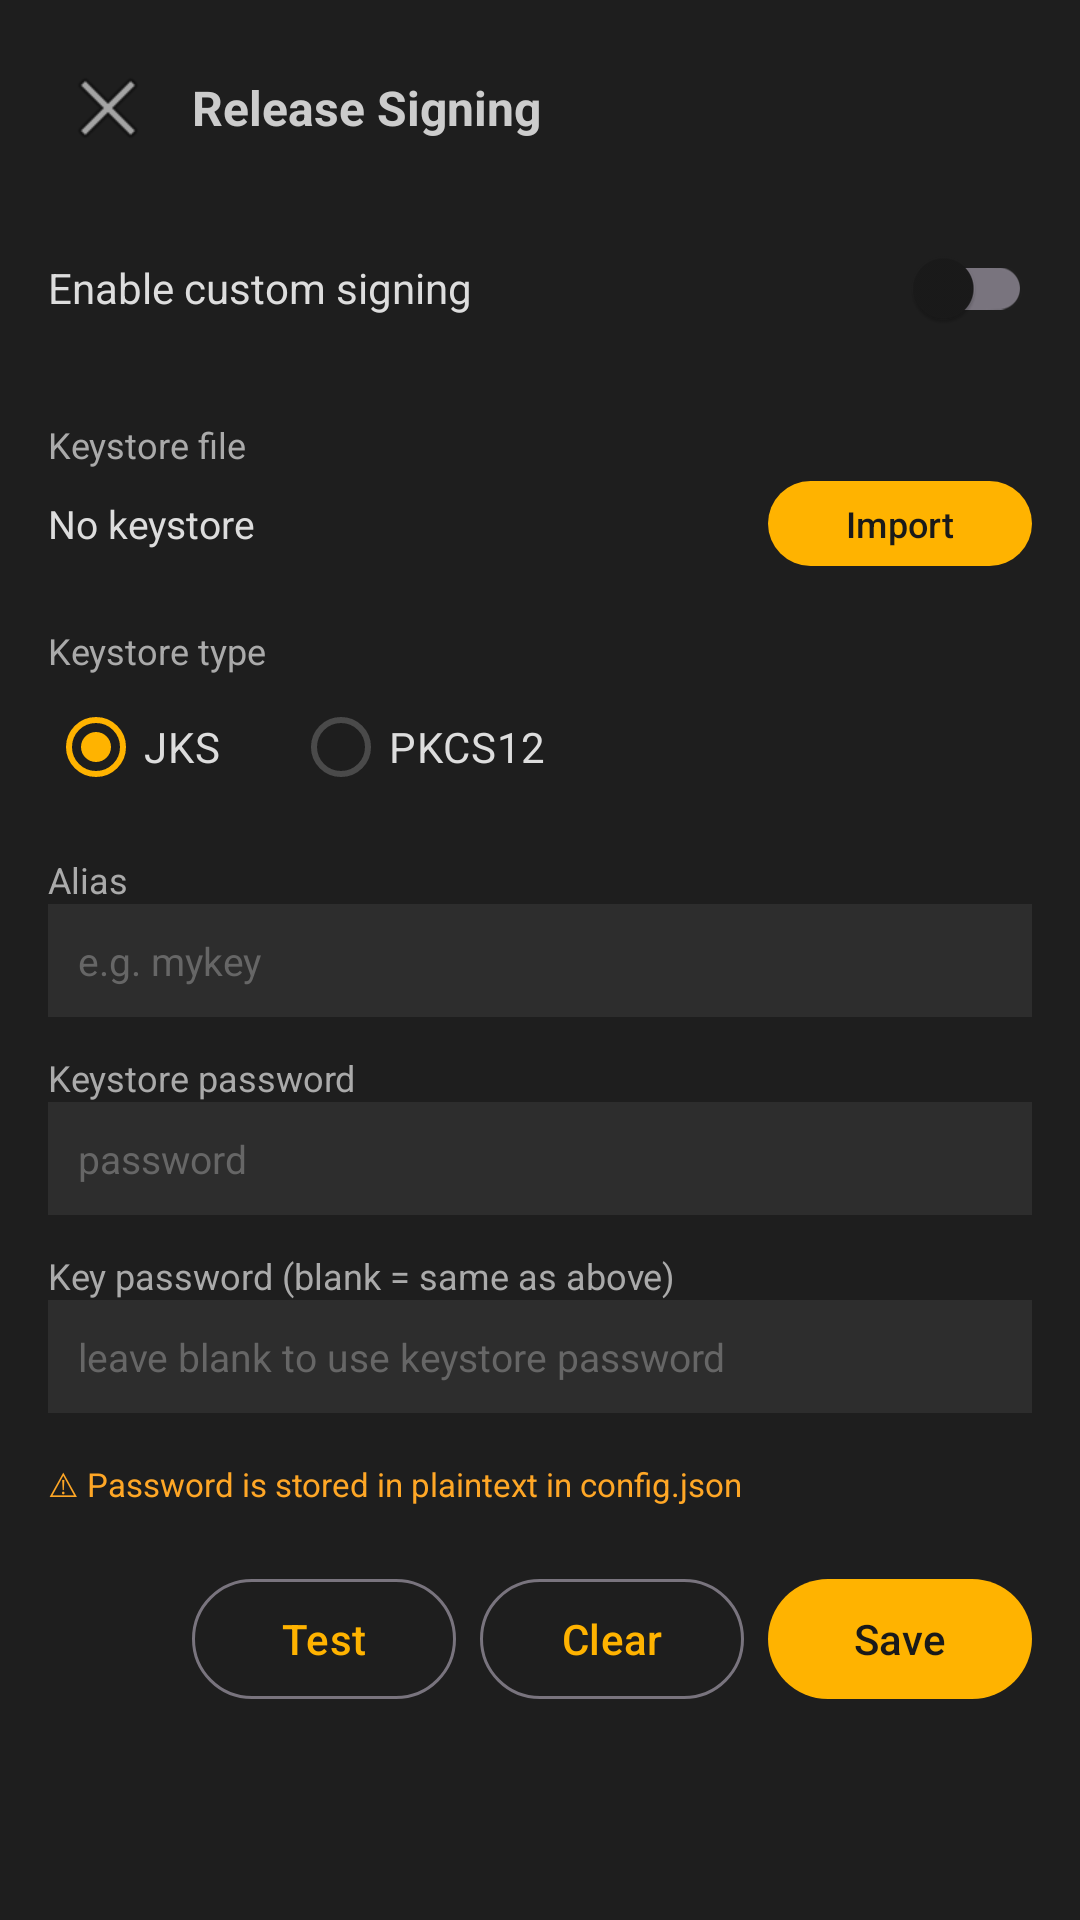

Named icons in this screenshot (1080×1920) and their bounding boxes, [x1, y1, x2, y2]:
close clear cancel: [81, 81, 135, 135]
